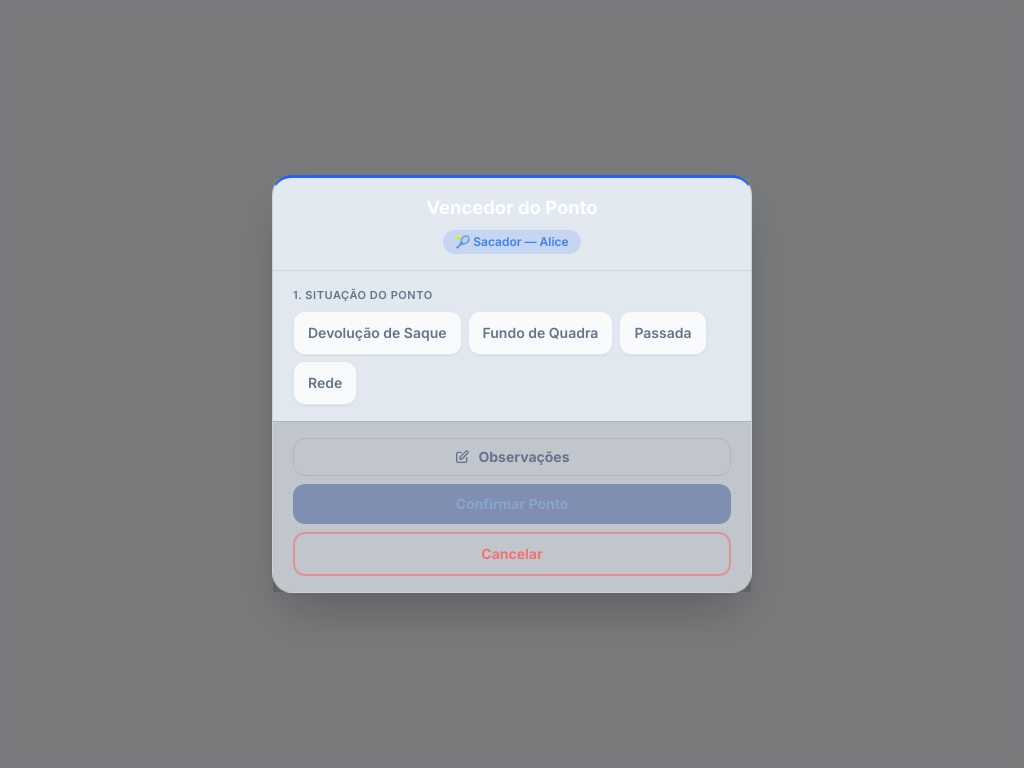
Test case: PointDetailsModal — Characterization Tests › Situacao selection flow › shows correct Tipo options for devolucao + sacador
expect the text "1. Situação do Ponto" is shown: met, box top-left (293, 288), bottom-right (433, 302)
Click the button "Devolução de Saque": (377, 333) top-left (293, 311), bottom-right (462, 355)
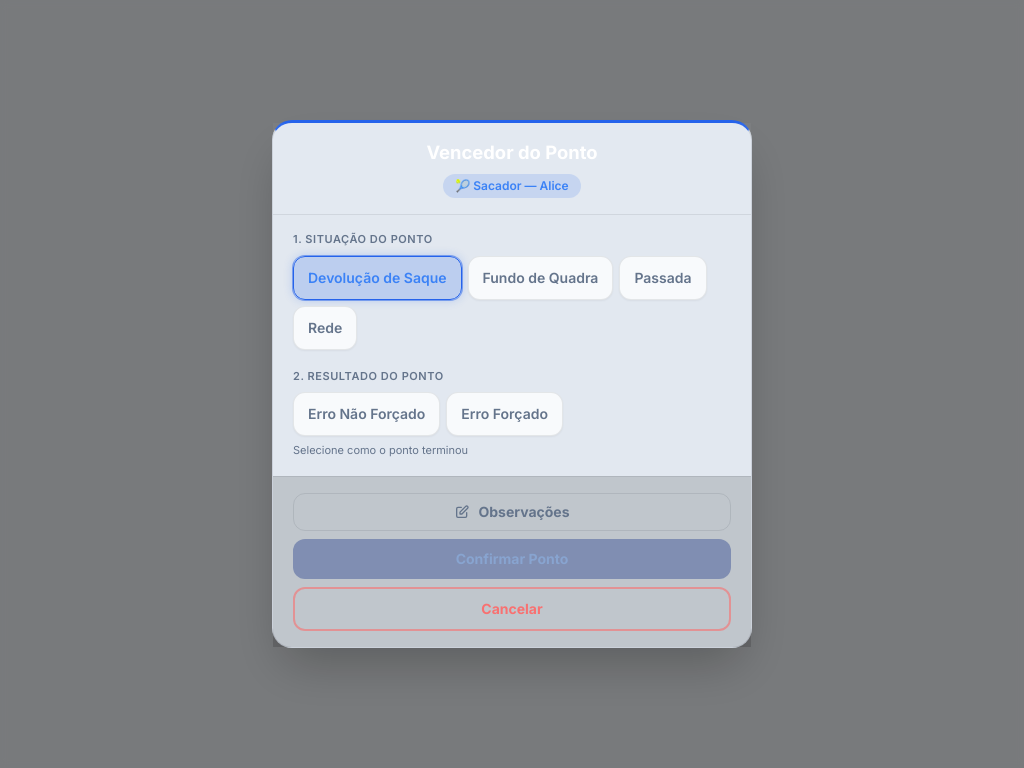
expect the text "2. Resultado do Ponto" is shown: met, box top-left (293, 369), bottom-right (444, 383)
expect the number of buttons "Erro Não Forçado" is 2: met, box top-left (293, 392), bottom-right (440, 436); top-left (446, 392), bottom-right (563, 436)
expect the button "Erro Não Forçado" is shown: met, box top-left (293, 392), bottom-right (440, 436)
